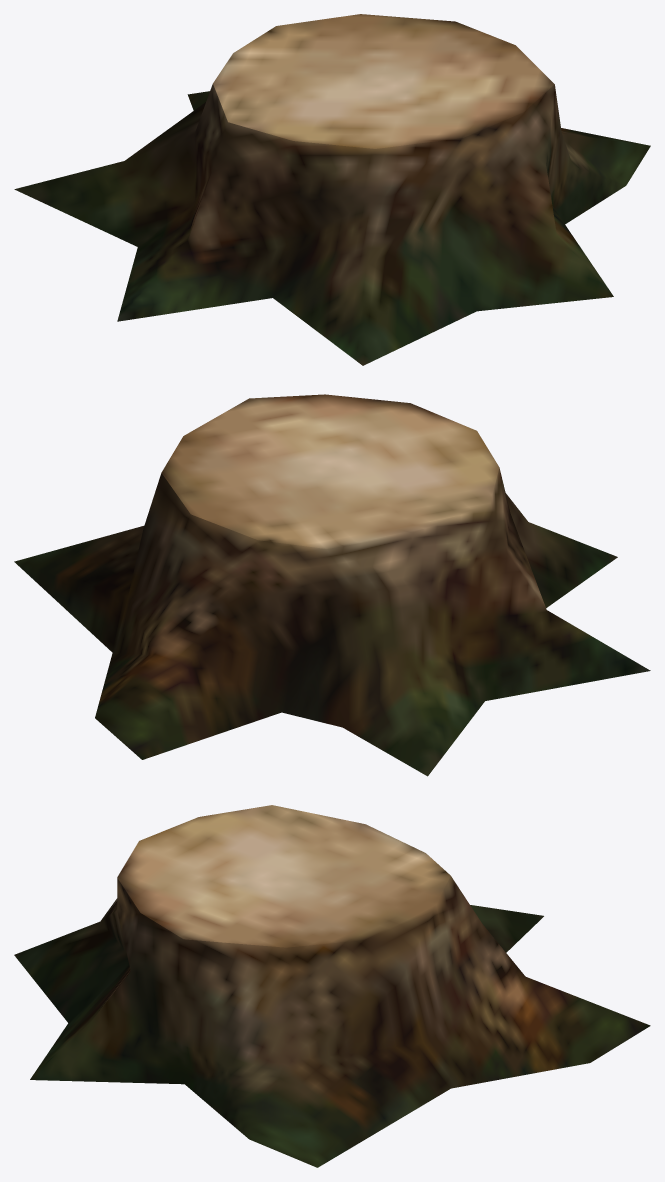
The model's file is general_obj_stump.glb.
The picture shows the model from 3 angles, top to bottom: view 1: azimuth 30°, elevation 25°; view 2: azimuth 150°, elevation 25°; view 3: azimuth 270°, elevation 25°; orthographic projection. The views are drawn at different scales.
Visible parts, largest first — view 1: Object07; view 2: Object07; view 3: Object07.
Boxes of the visible parts, left/top/right/bottom form: Object07: left=14, top=14, right=650, bottom=365; Object07: left=14, top=394, right=650, bottom=776; Object07: left=14, top=805, right=650, bottom=1167.
Bounding box in the file's own units: 1.42 × 0.3559 × 1.36.
Materials: 1 (1 with a texture image).
